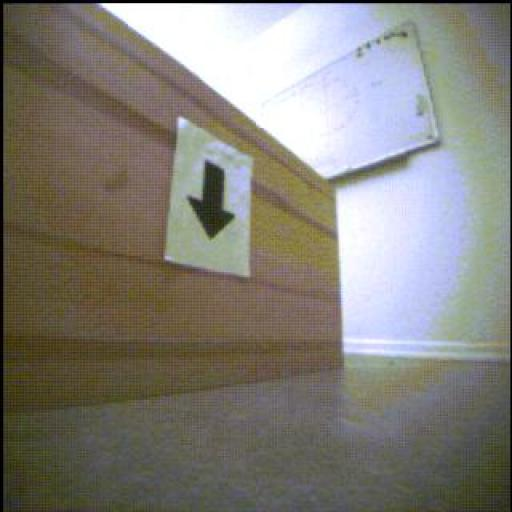Arrow: (188, 161, 236, 239)
